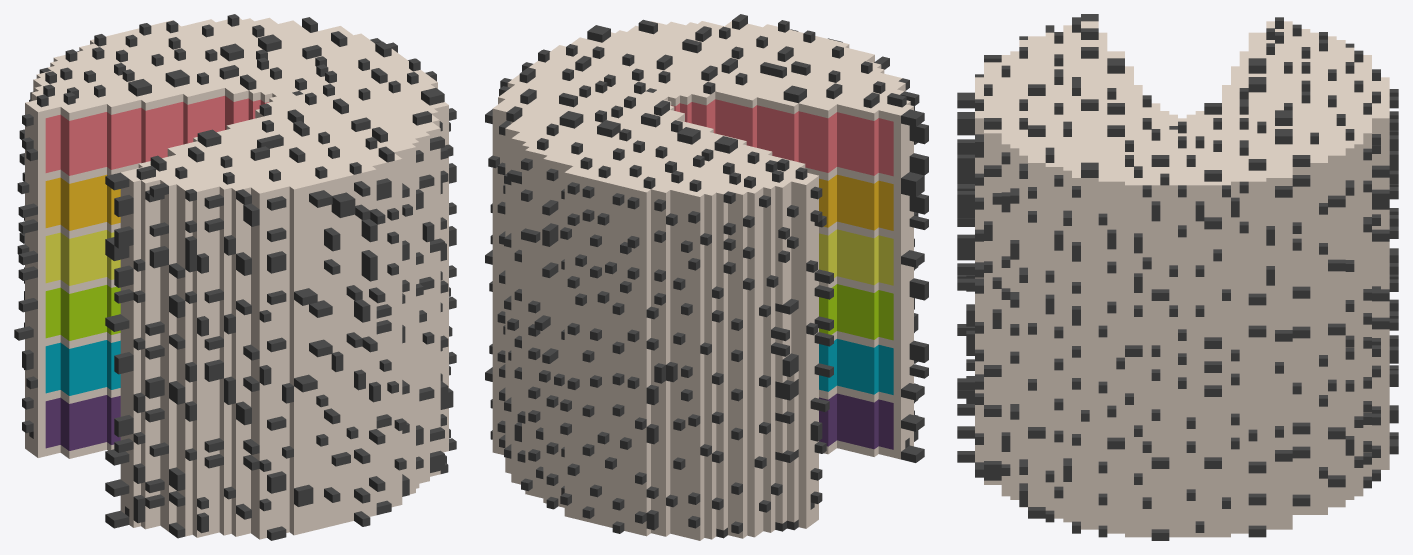
File: Eruption-49.obj
The picture shows the model from 3 angles, left to right: view 1: azimuth 30°, elevation 25°; view 2: azimuth 150°, elevation 25°; view 3: azimuth 270°, elevation 25°; orthographic projection. The views are drawn at different scales.
Size of the model in its own units: 4.7 by 4.5 by 5.
Materials: 1 (1 with a texture image).
